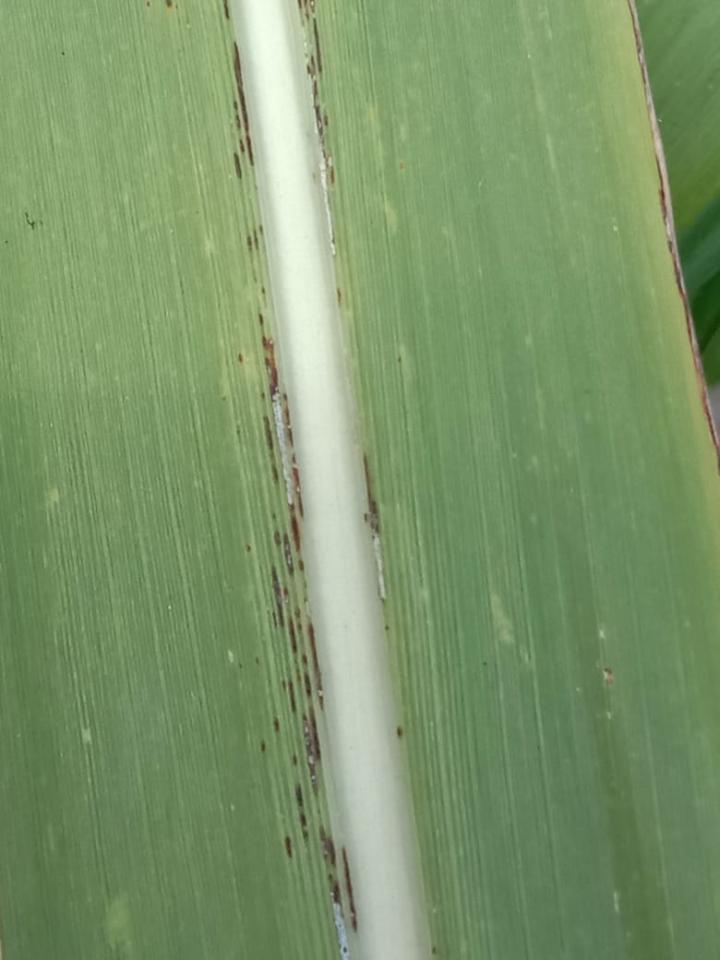Rust: (134, 0, 379, 959), (286, 0, 359, 334), (347, 440, 401, 636), (386, 712, 414, 757)
